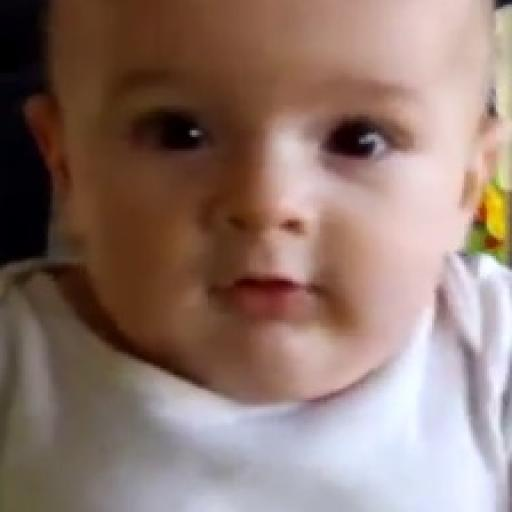Autism: (79, 5, 489, 416)
